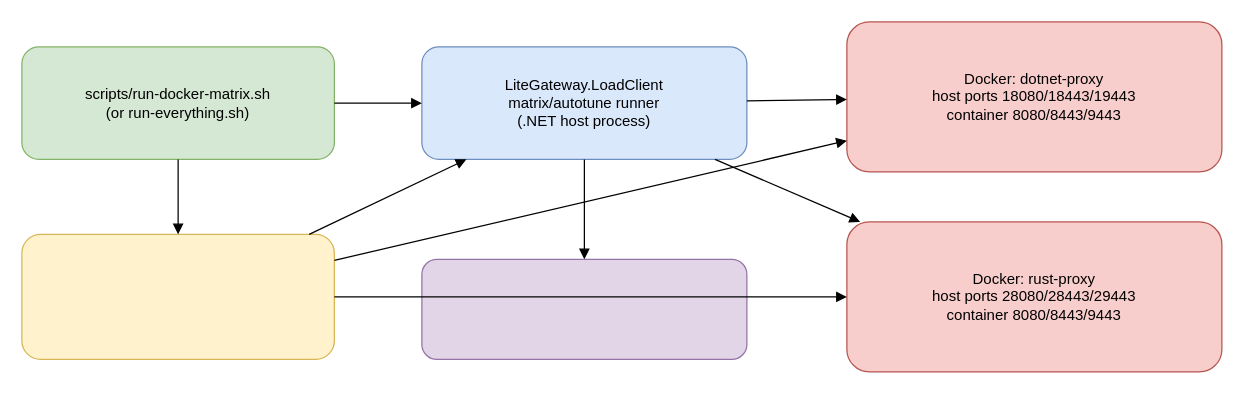
The diagram is 1244 pixels wide and 394 high, and some of its shapes have lost their labels. Each missing label, with the centre of its shape:
.run-logs/ dotnet/rust proxy + matrix output: (x=584, y=308)
certs/generated CA + server + client certs (ECDSA P-256): (x=177, y=296)
